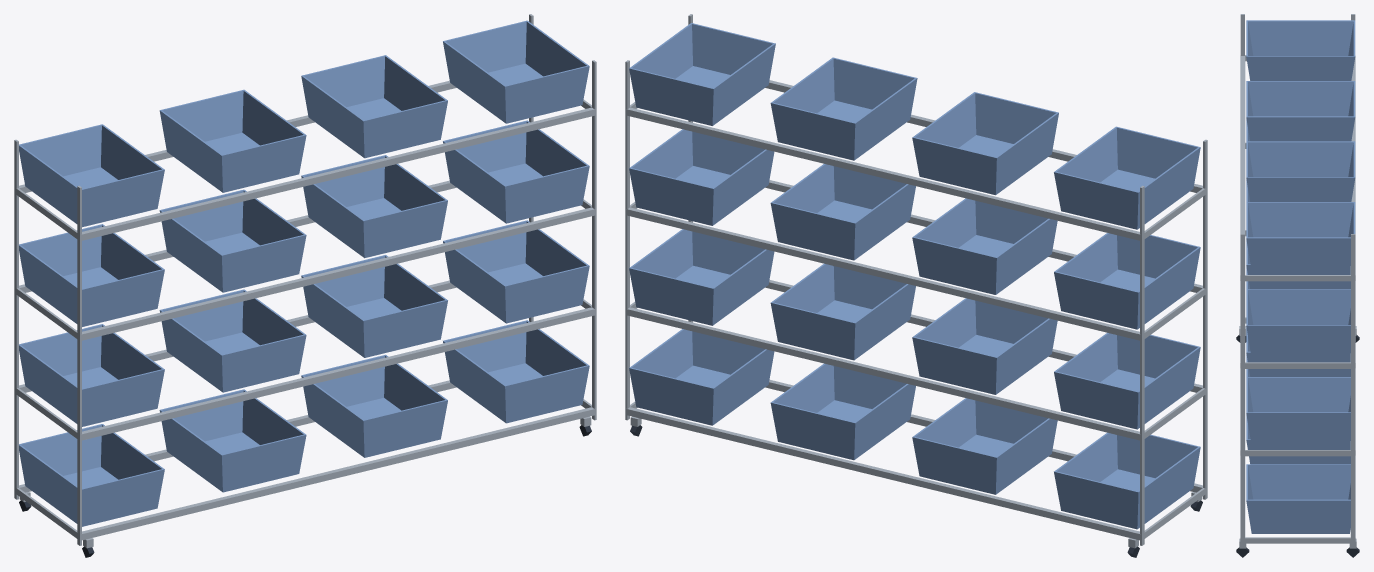
The model's file is SM_MPR_SorterSimCart64_0_LOD2.fbx.
3 renders of one model, left to right at view 1: azimuth 30°, elevation 25°; view 2: azimuth 150°, elevation 25°; view 3: azimuth 270°, elevation 25°, orthographic. The views are drawn at different scales.
Parts seen in each view (by area): view 1: SM_MPR_SorterSimCart64_0_LOD2; view 2: SM_MPR_SorterSimCart64_0_LOD2; view 3: SM_MPR_SorterSimCart64_0_LOD2.
Boxes of the visible parts, x1,y1,x2,y2 form: SM_MPR_SorterSimCart64_0_LOD2: (14, 14, 596, 557); SM_MPR_SorterSimCart64_0_LOD2: (625, 14, 1207, 557); SM_MPR_SorterSimCart64_0_LOD2: (1236, 14, 1359, 557).
Bounding box in the file's own units: 241 × 56.9 × 166.
